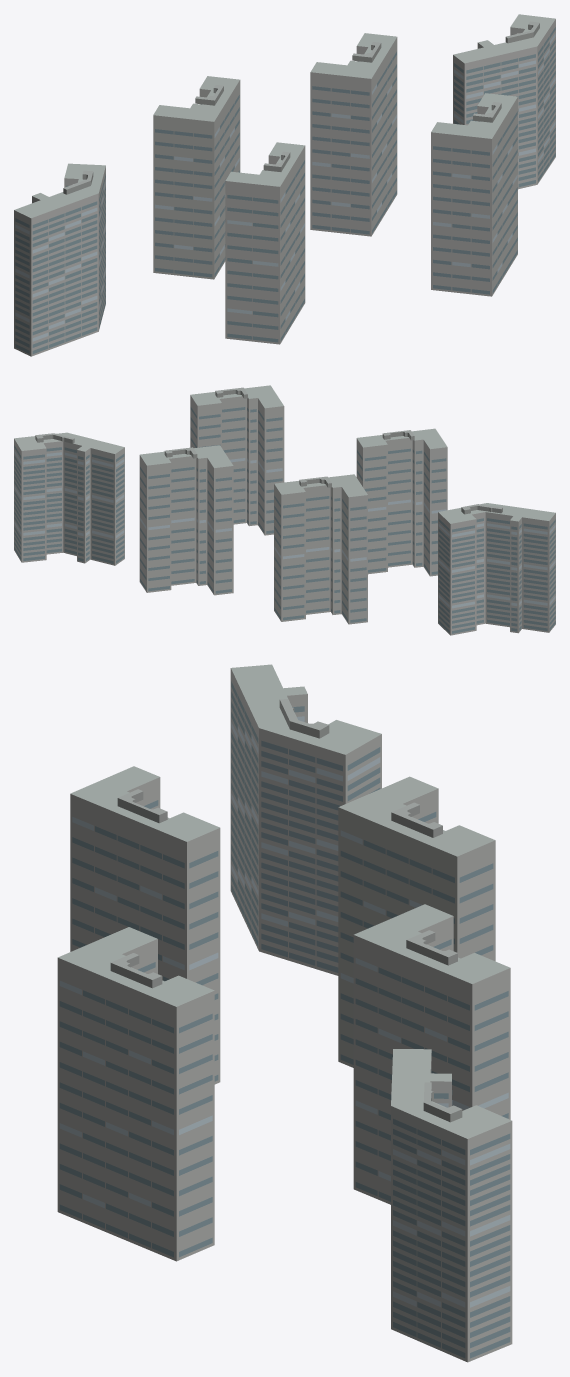
Rendered from apt-a13778211.glb.
The picture shows the model from 3 angles, top to bottom: view 1: azimuth 30°, elevation 25°; view 2: azimuth 150°, elevation 25°; view 3: azimuth 270°, elevation 25°; orthographic projection. The views are drawn at different scales.
Parts seen in each view (by area): view 1: apt-a13778211; view 2: apt-a13778211; view 3: apt-a13778211.
Part boxes in pixels (x1,y1,x2,y2): apt-a13778211: (14, 14, 555, 356); apt-a13778211: (14, 385, 555, 635); apt-a13778211: (57, 664, 512, 1362).
Bounding box in the file's own units: 294 × 76 × 119.
